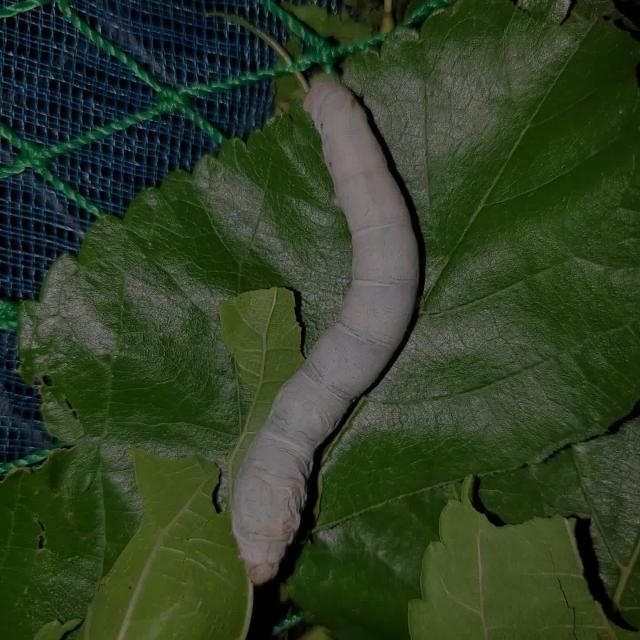Healthy: (193, 44, 487, 590)
